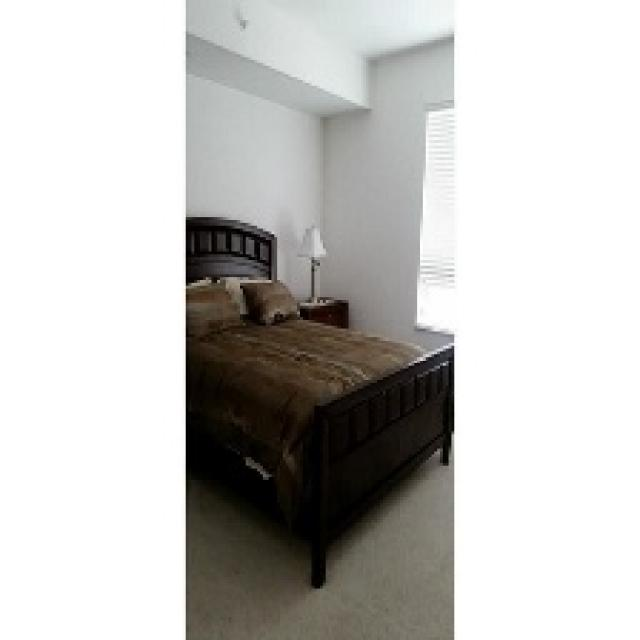Bed: (183, 214, 451, 589)
